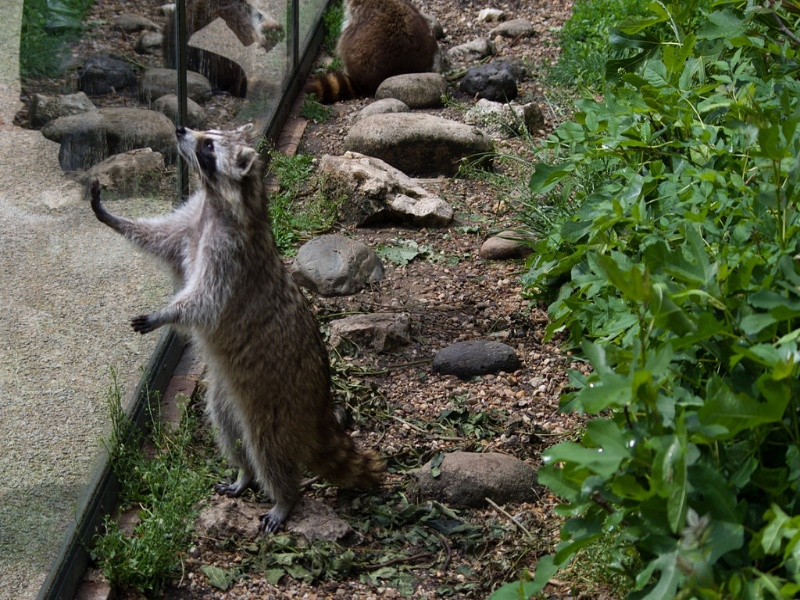raccoon: (88, 118, 388, 528)
